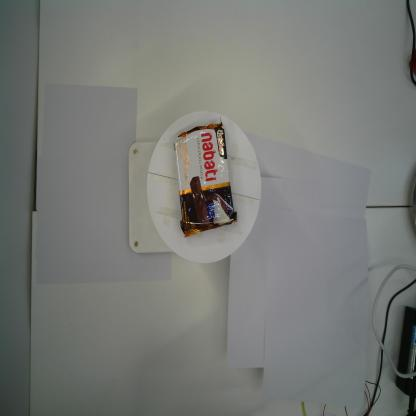Dessert: (172, 117, 239, 240)
